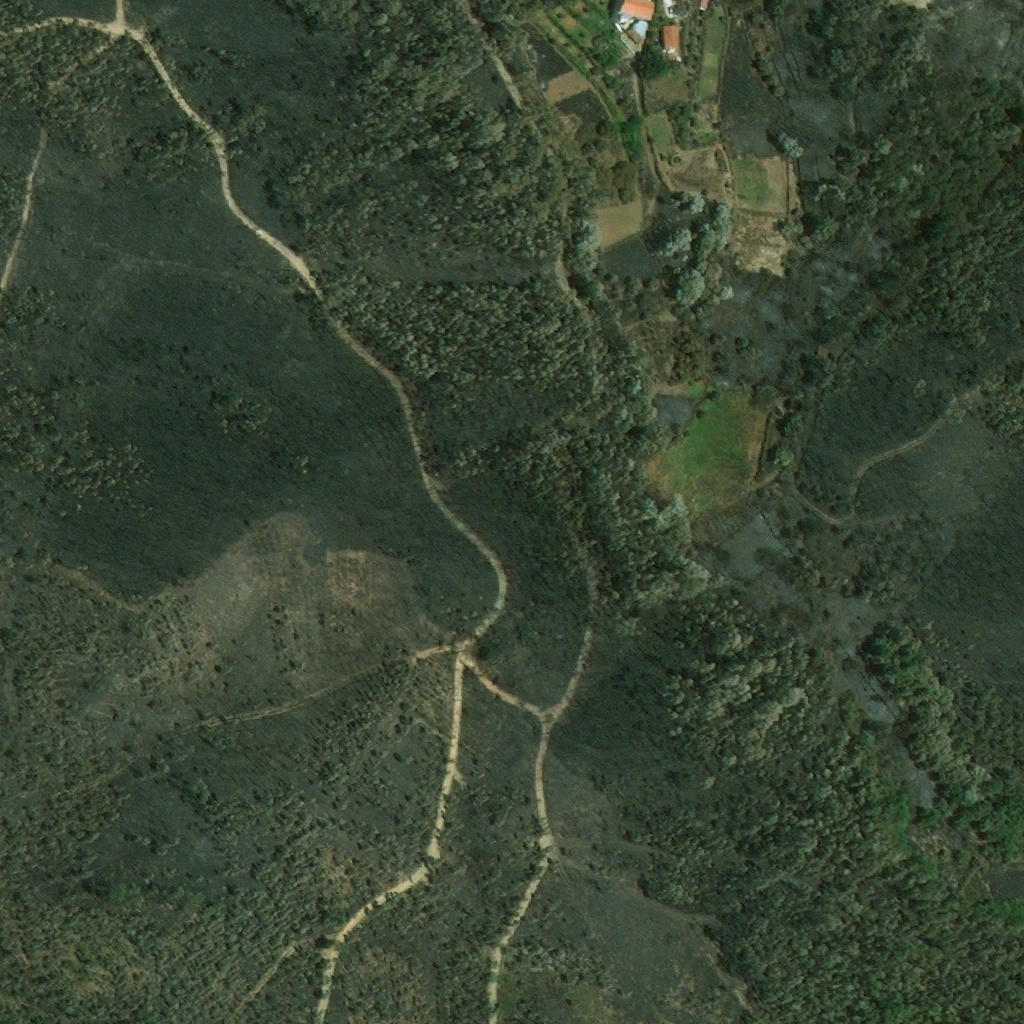0 no-damage: (659, 23, 682, 60)
4 un-classified: (608, 0, 657, 20), (697, 0, 709, 12)
